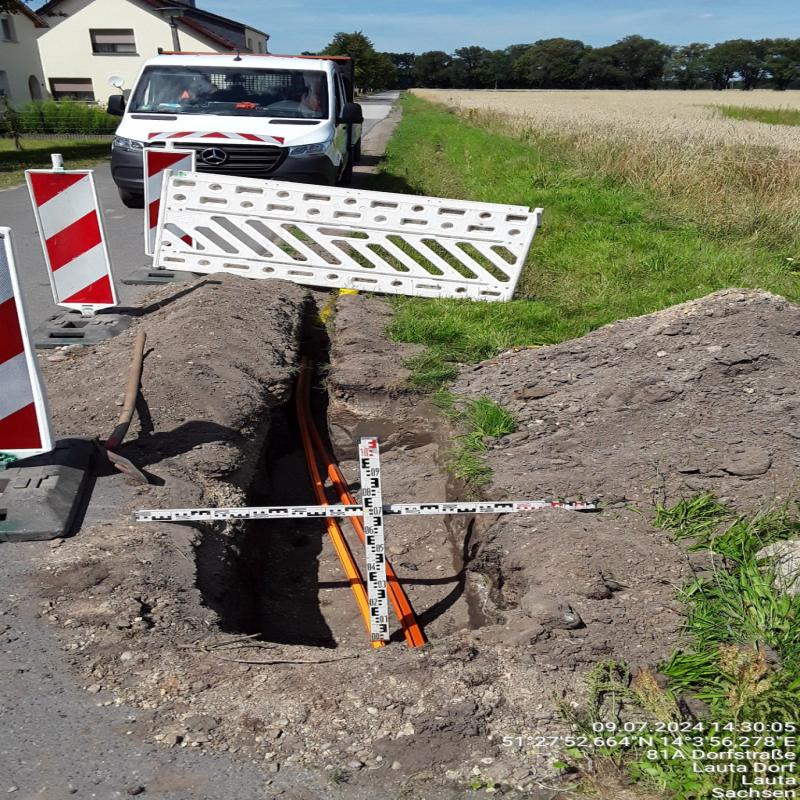Orang-Speednetrohrchen: (296, 387, 427, 646)
